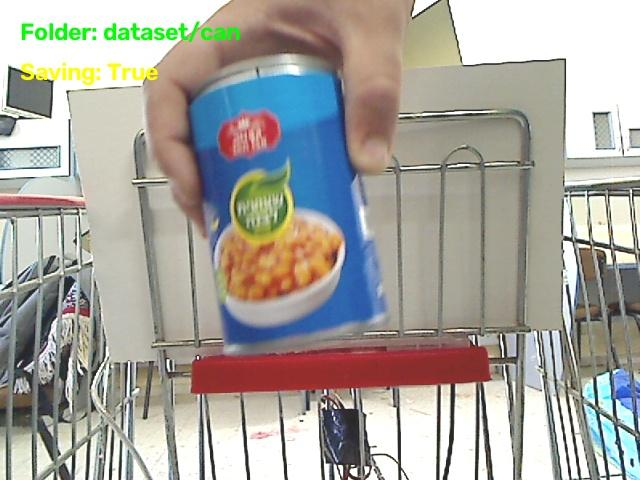can: (190, 54, 386, 354)
